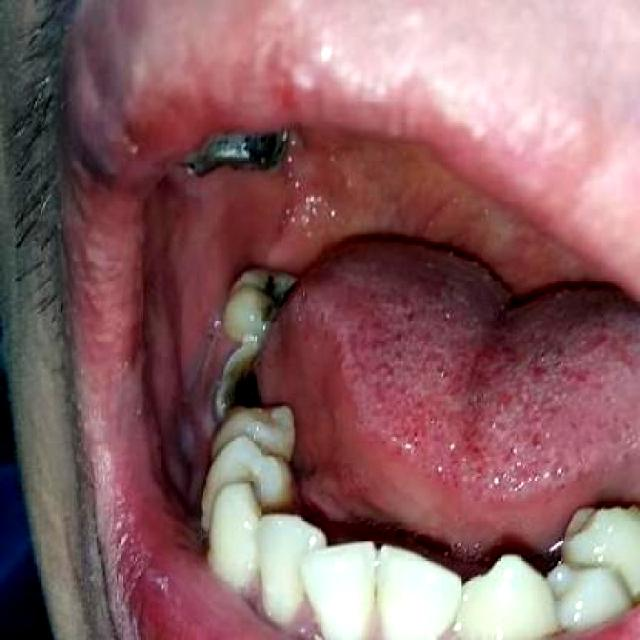Plaque: (249, 274, 292, 329), (223, 355, 260, 415)
